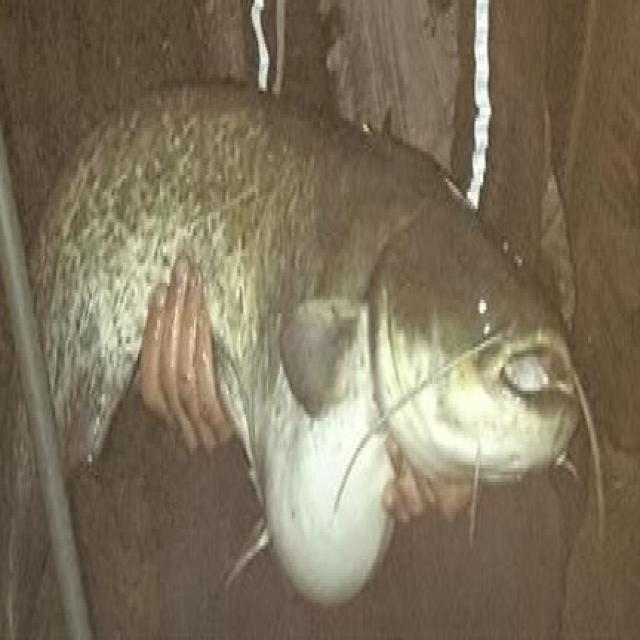Catfish: (11, 50, 632, 630)
